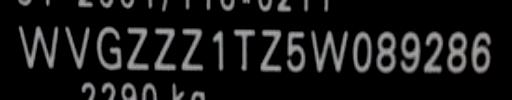letter: (15, 22, 61, 71), (309, 25, 349, 76), (94, 24, 124, 73), (64, 22, 92, 73), (178, 24, 206, 73), (150, 24, 178, 73), (258, 25, 284, 76), (230, 24, 256, 73), (124, 24, 150, 73), (284, 27, 308, 76), (398, 27, 422, 76), (350, 27, 374, 75), (374, 27, 398, 75), (420, 28, 444, 75), (445, 28, 469, 75), (469, 28, 493, 75), (208, 25, 226, 73)
